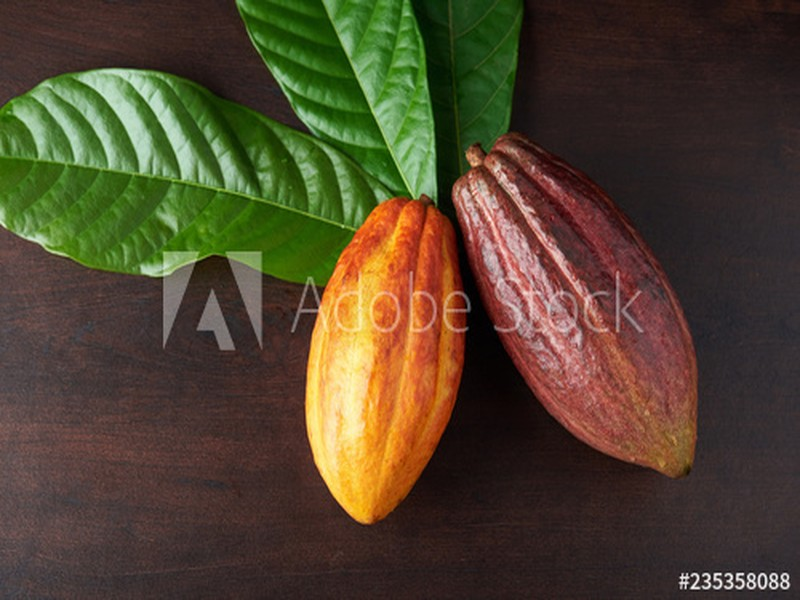Cacaopod: (451, 128, 698, 476), (304, 194, 462, 533)
